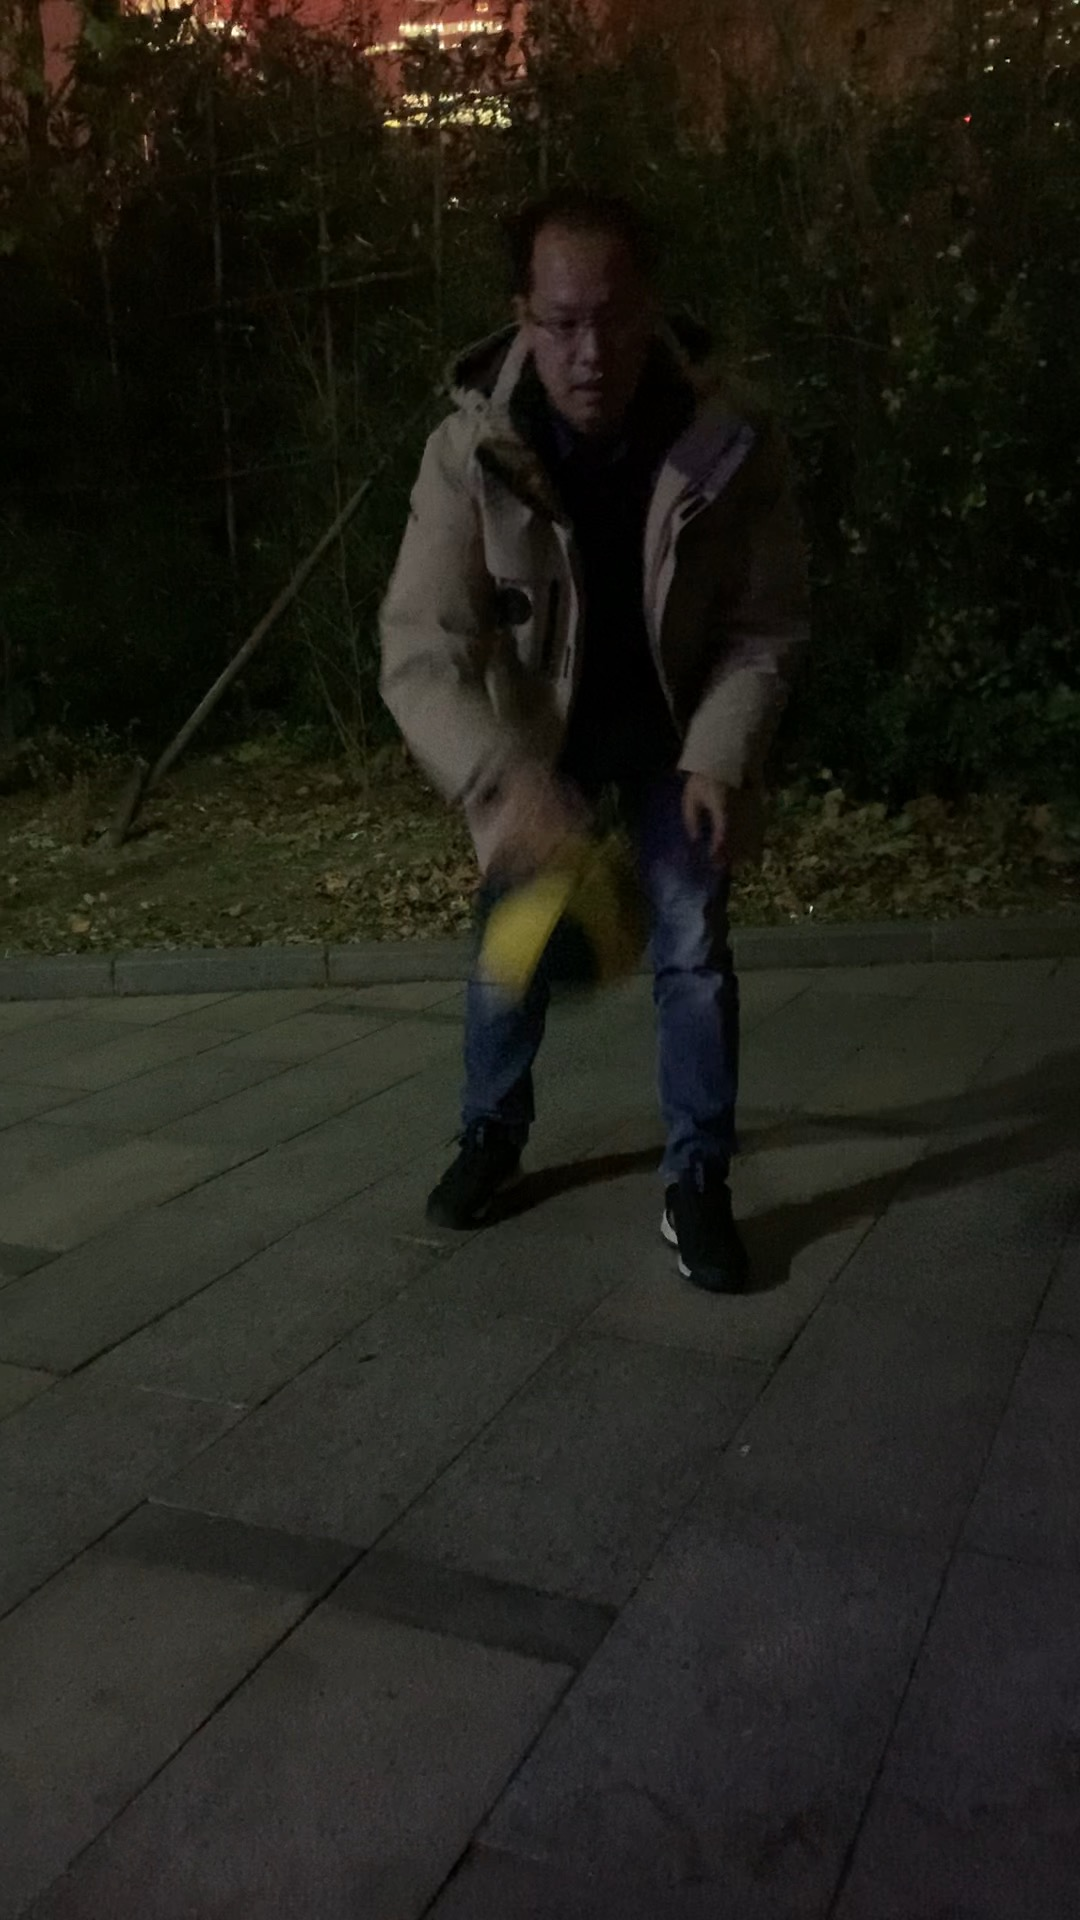ball: (471, 837, 647, 1007)
